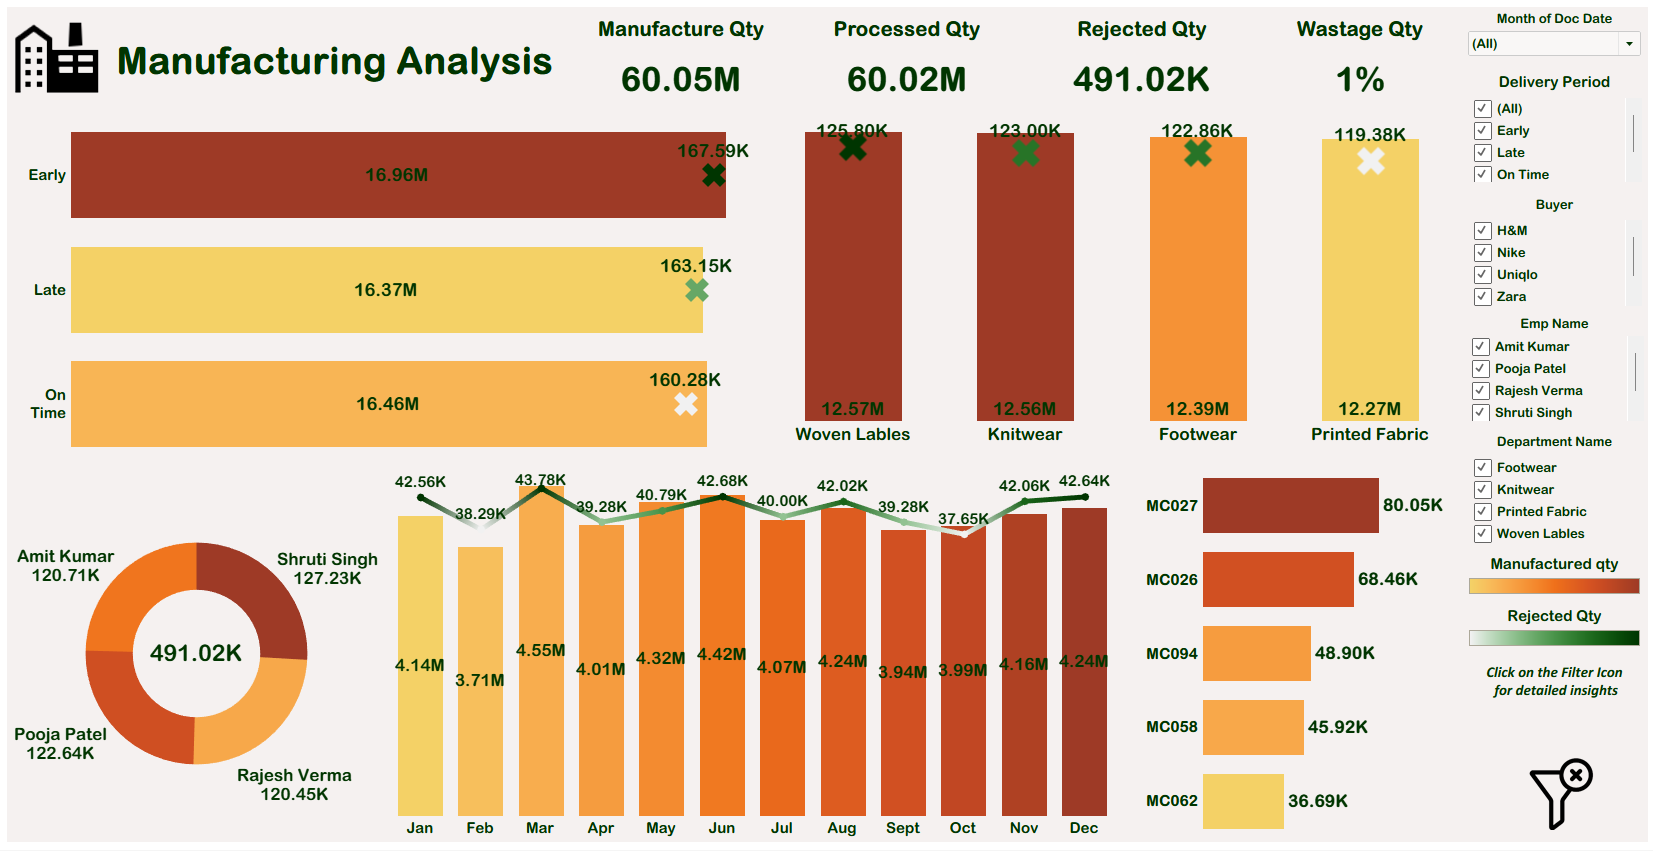

What the dashboard file says about the page in this screenshot:
{"tool":"tableau","page":{"name":"Manufacturing Analysis","canvas":[1000,1000],"units":"permille","ordinal":0},"visuals":[{"type":"image","param":"Image/icons8-manufacturing-64.png","box":[4.8,9.4,60.4,126]},{"type":"text","box":[65.2,9.4,278.8,126]},{"type":"filter","title":"Production Comparison trend ","param":"[federated.1ql1kwg1heu822155rnj60ulhljz].[mn:Doc Date:ok]","box":[882.2,9.4,113,67]},{"type":"worksheet","title":"Manufacture Qty","mark":"Automatic","box":[345.2,11.8,132.8,121.3]},{"type":"worksheet","title":"Processed Qty","mark":"Automatic","box":[478,11.8,140,121.3]},{"type":"worksheet","title":"Rejected Qty","mark":"Automatic","box":[618,11.8,143.6,121.3]},{"type":"worksheet","title":"Wastage Qty","mark":"Automatic","box":[761.6,11.8,119.4,121.3]},{"type":"filter","title":"Manufacture Vs Rejected","param":"[federated.1ql1kwg1heu822155rnj60ulhljz].[none:Delivery Period:nk]","box":[882.2,76.4,113,145.7]},{"type":"worksheet","title":"Manufacture Vs Rejected","mark":"Automatic","rows":["Delivery Period"],"cols":["today Manufactured qty","Rejected Qty"],"box":[4.8,135.4,456.1,412.5]},{"type":"worksheet","title":"Department Wise Manufacture Vs Rejected","mark":"Area","rows":["today Manufactured qty","Rejected Qty"],"cols":["Department Name"],"box":[460.9,135.4,421.3,412.5]},{"type":"filter","title":"Department Wise Manufacture Vs Rejected","param":"[federated.1ql1kwg1heu822155rnj60ulhljz].[none:Buyer:nk]","box":[882.2,222.1,113,145.7]},{"type":"filter","title":"Employee Wise Rejected Qty ","param":"[federated.1ql1kwg1heu822155rnj60ulhljz].[none:Emp Name:nk]","box":[882.2,367.8,113,132.8]},{"type":"filter","title":"Department Wise Manufacture Vs Rejected","param":"[federated.1ql1kwg1heu822155rnj60ulhljz].[none:Department Name:nk]","box":[882.2,500.6,113,148.1]},{"type":"worksheet","title":"Employee Wise Rejected Qty ","mark":"Pie","rows":["Zero 0 (copy)_726486931744452610","Calculation_726486931744382977"],"box":[4.8,547.9,228.8,442.7]},{"type":"worksheet","title":"Production Comparison trend ","mark":"Bar","rows":["today Manufactured qty","Rejected Qty"],"cols":["Doc Date"],"box":[233.6,547.9,442.2,442.7]},{"type":"worksheet","title":"Machine Wise Rejected Qty ","mark":"Automatic","rows":["Machine Code"],"cols":["Rejected Qty"],"box":[675.9,547.9,206.3,442.7]},{"type":"legend","title":"Manufacture Vs Rejected","param":"[federated.1ql1kwg1heu822155rnj60ulhljz].[sum:today Manufactured qty:qk]","box":[882.2,648.6,113,61.1]},{"type":"legend","title":"Manufacture Vs Rejected","param":"[federated.1ql1kwg1heu822155rnj60ulhljz].[sum:Rejected Qty:qk]","box":[882.2,709.7,113,57.6]},{"type":"text","box":[882.2,767.3,113,69.3]},{"type":"dashboard-object","box":[919.1,891.4,47.2,84.9]}]}

Visuals, with their boxes on the dashboard's canvas, which has no fixed pixel size, in thousandths of its width and height (x1, y1, x2, y2). These are canvas units, not pixel positions in the 1653x851 screenshot, which may show the page scaled, cropped or inside an application window:
image: 5 9 65 135
text: 65 9 344 135
"Production Comparison trend " filter: 882 9 995 76
"Manufacture Qty" worksheet: 345 12 478 133
"Processed Qty" worksheet: 478 12 618 133
"Rejected Qty" worksheet: 618 12 762 133
"Wastage Qty" worksheet: 762 12 881 133
"Manufacture Vs Rejected" filter: 882 76 995 222
"Manufacture Vs Rejected" worksheet: 5 135 461 548
"Department Wise Manufacture Vs Rejected" worksheet (Area marks): 461 135 882 548
"Department Wise Manufacture Vs Rejected" filter: 882 222 995 368
"Employee Wise Rejected Qty " filter: 882 368 995 501
"Department Wise Manufacture Vs Rejected" filter: 882 501 995 649
"Employee Wise Rejected Qty " worksheet (Pie marks): 5 548 234 991
"Production Comparison trend " worksheet (Bar marks): 234 548 676 991
"Machine Wise Rejected Qty " worksheet: 676 548 882 991
"Manufacture Vs Rejected" legend: 882 649 995 710
"Manufacture Vs Rejected" legend: 882 710 995 767
text: 882 767 995 837
dashboard-object: 919 891 966 976
